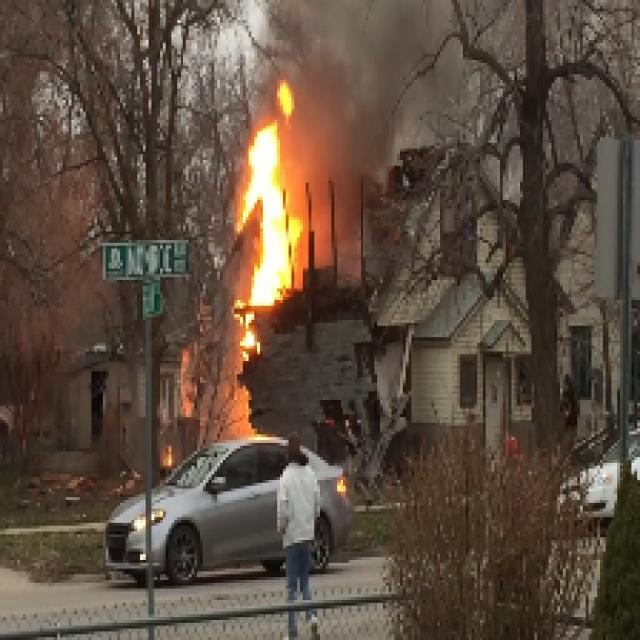fire: (236, 122, 294, 309)
smoke: (303, 8, 377, 197)
